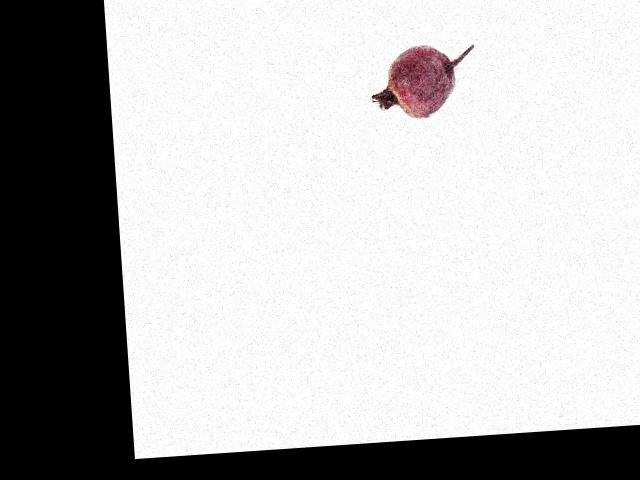beet: (367, 41, 478, 121)
